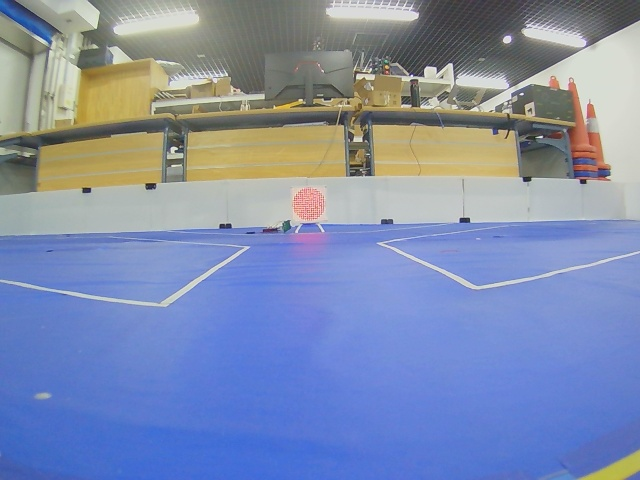red: (292, 187, 326, 223)
